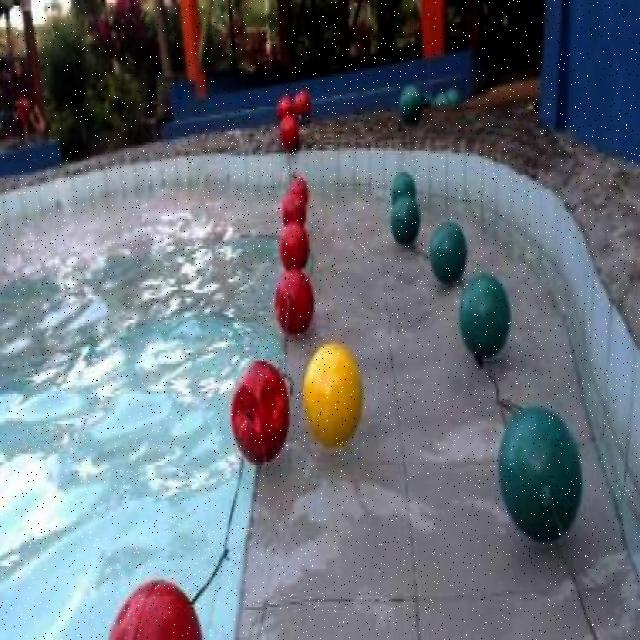buoy: (498, 403, 583, 543), (302, 341, 362, 447), (230, 361, 289, 465), (106, 581, 204, 639), (458, 274, 508, 355), (274, 267, 314, 335), (428, 220, 467, 283), (389, 193, 420, 245), (278, 221, 308, 271), (389, 171, 416, 206), (398, 84, 420, 124), (280, 196, 305, 231), (280, 111, 299, 146), (288, 178, 308, 210), (293, 89, 310, 119), (276, 93, 293, 120)
